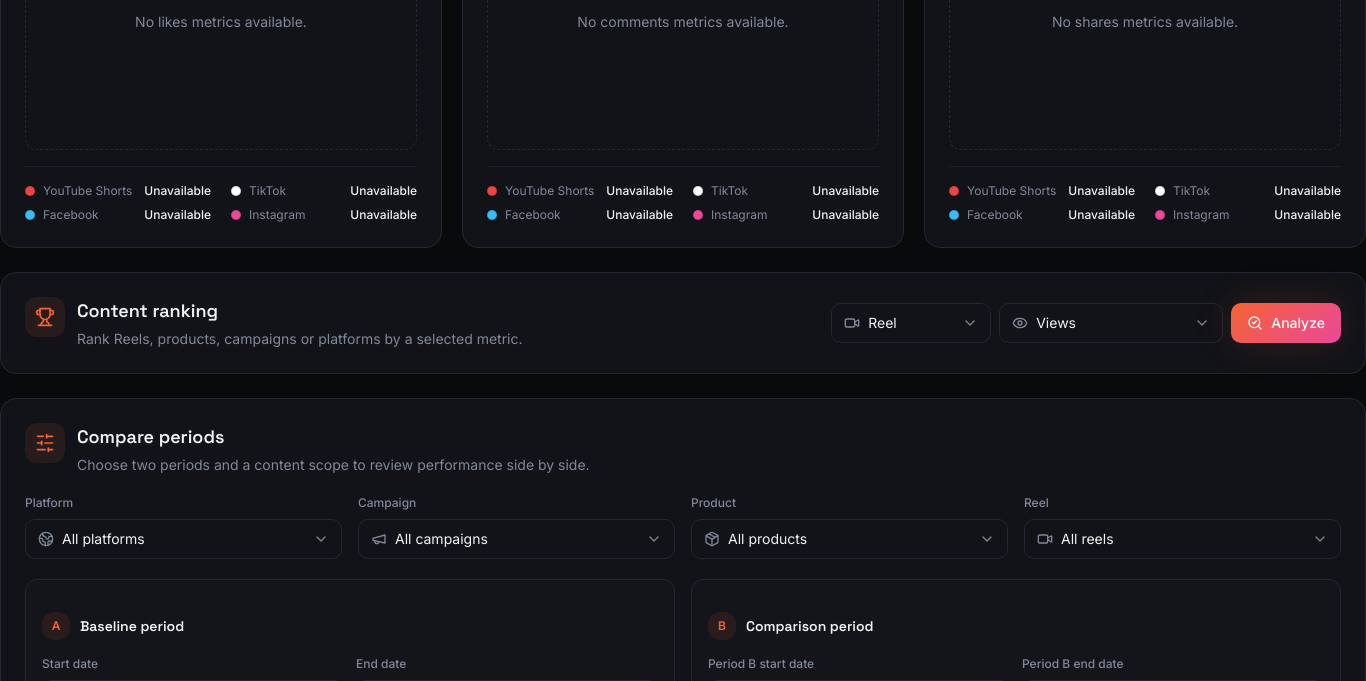
Test: animates only the selected export group and clears progress after failure
Later steps or results of the test are not shown.
(page scrolled)
Click the button "Analyze" at (1286, 323), box [1231,303,1341,343]
(page scrolled)
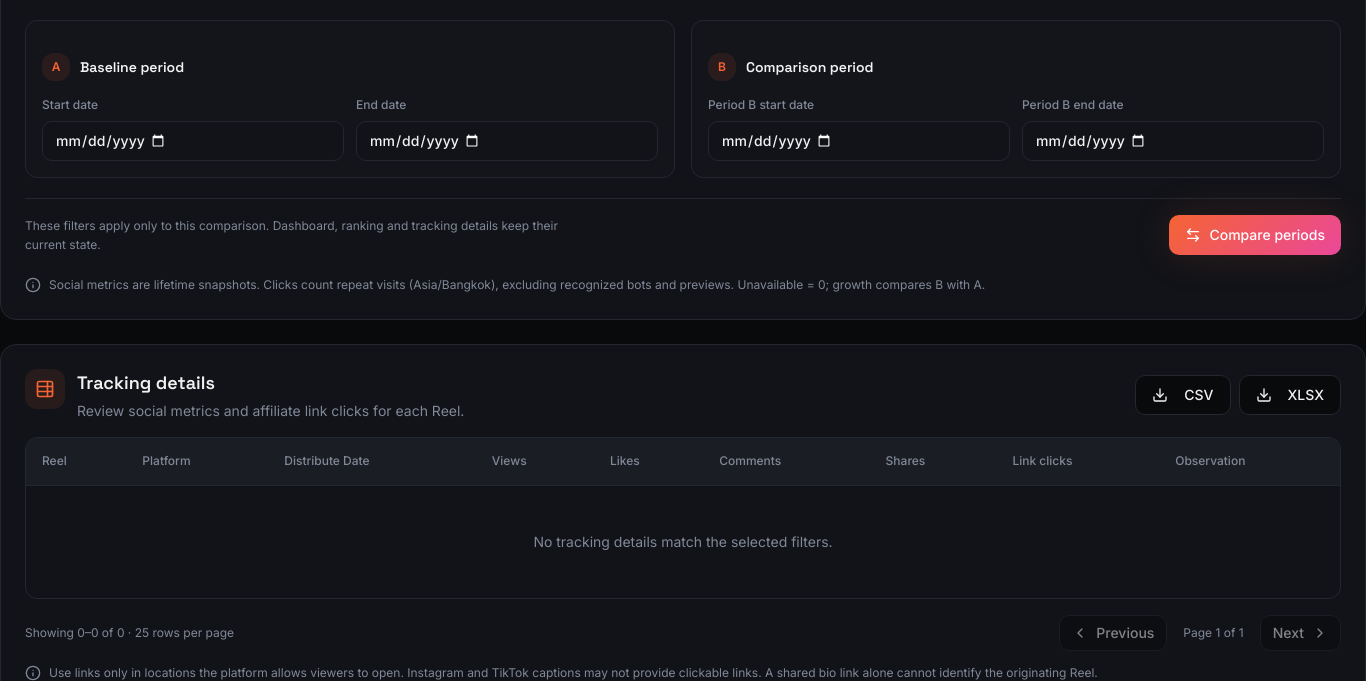
Click the button "CSV" at (1183, 394), box [1135,374,1231,414]
(page scrolled)
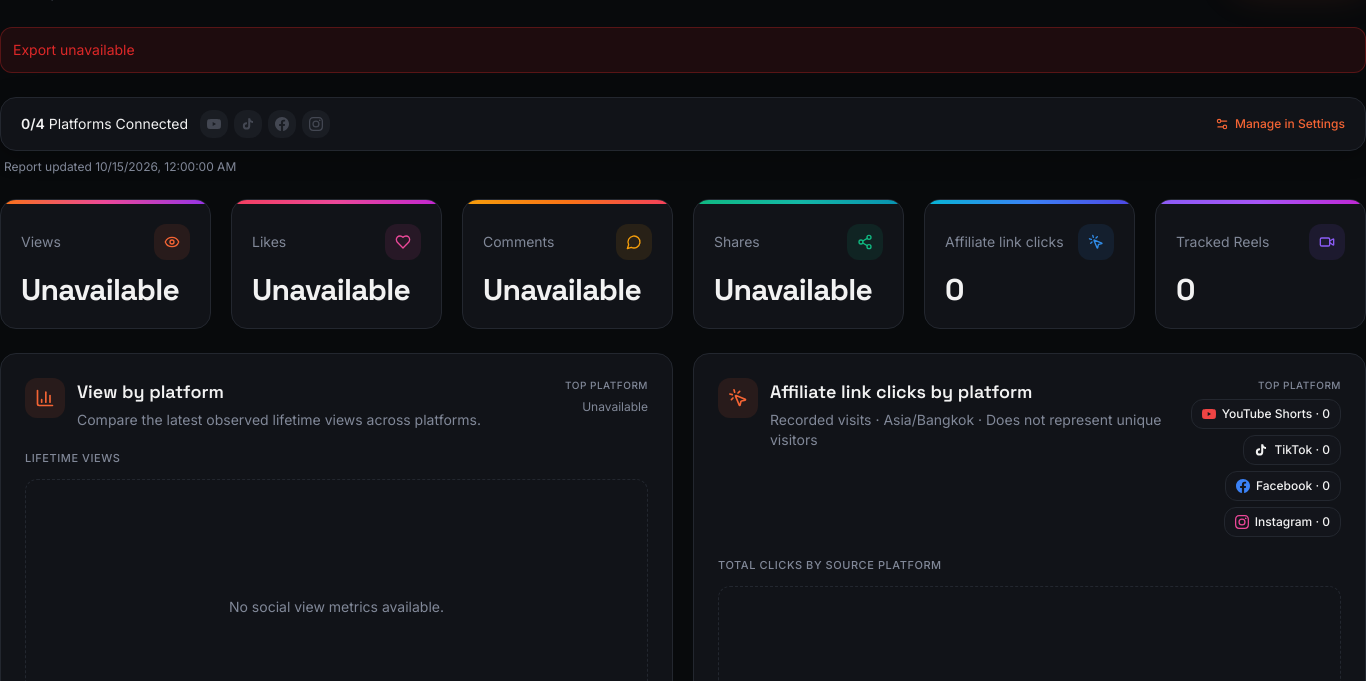
Expected: the message reads "Export unavailable", [13,41,135,58]
